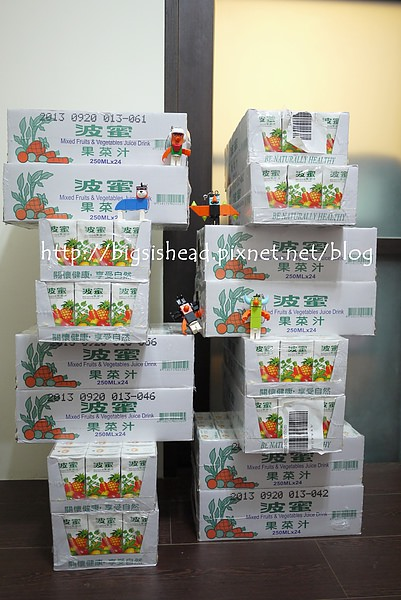vegetables juice: (73, 277, 110, 332), (38, 278, 75, 333), (108, 284, 145, 339), (285, 161, 322, 216), (254, 162, 291, 217), (315, 163, 352, 218), (279, 341, 316, 396), (248, 339, 285, 394), (312, 337, 349, 392), (85, 449, 122, 504), (52, 451, 89, 506), (118, 452, 155, 507), (76, 215, 113, 270), (107, 214, 144, 269), (45, 215, 82, 270), (87, 506, 124, 561), (119, 508, 156, 563), (54, 508, 91, 563)
